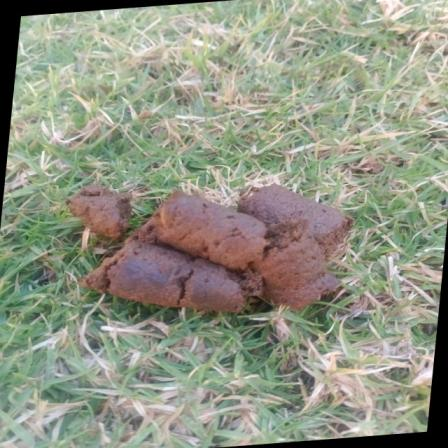dog-poop: (61, 169, 352, 330)
